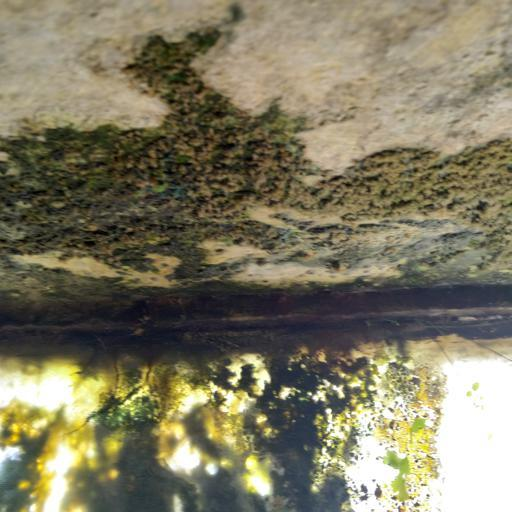algae: (0, 28, 512, 486)
